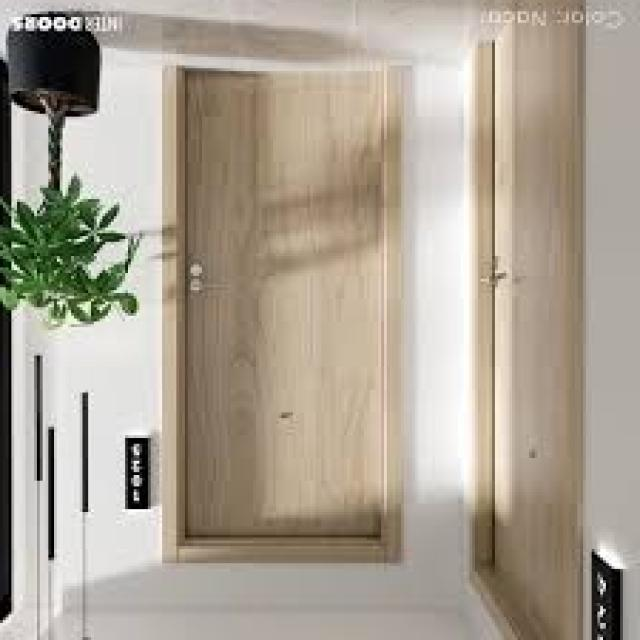door: (178, 64, 397, 553)
